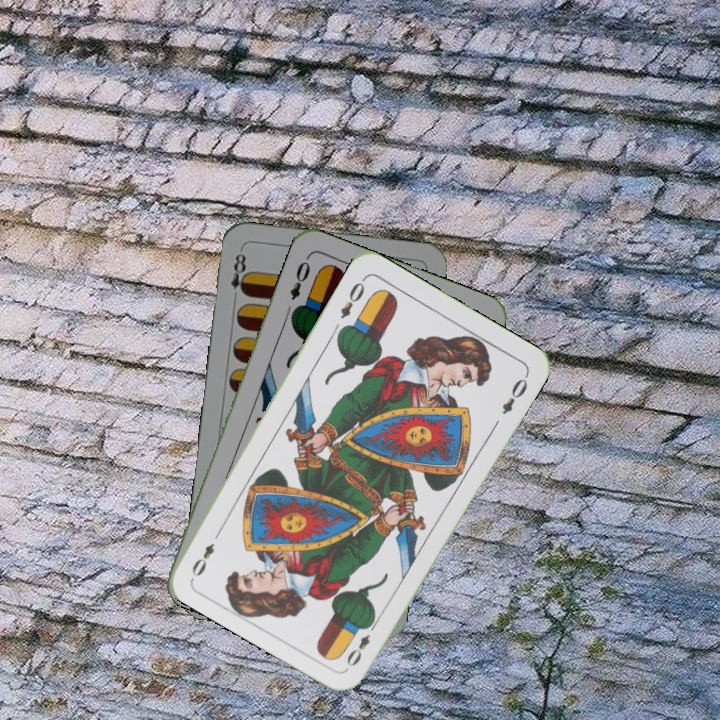E8: (226, 246, 251, 305)
EO: (342, 616, 380, 670), (336, 273, 368, 322), (285, 252, 313, 303)
